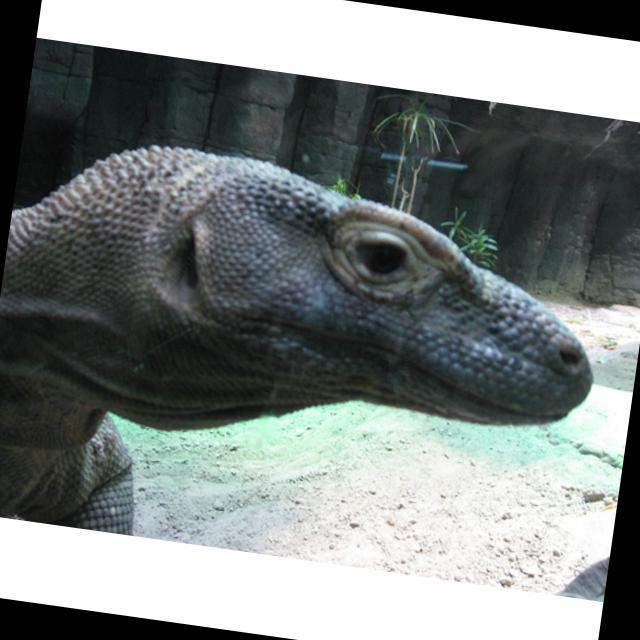KomodoDragon: (0, 120, 618, 594)
